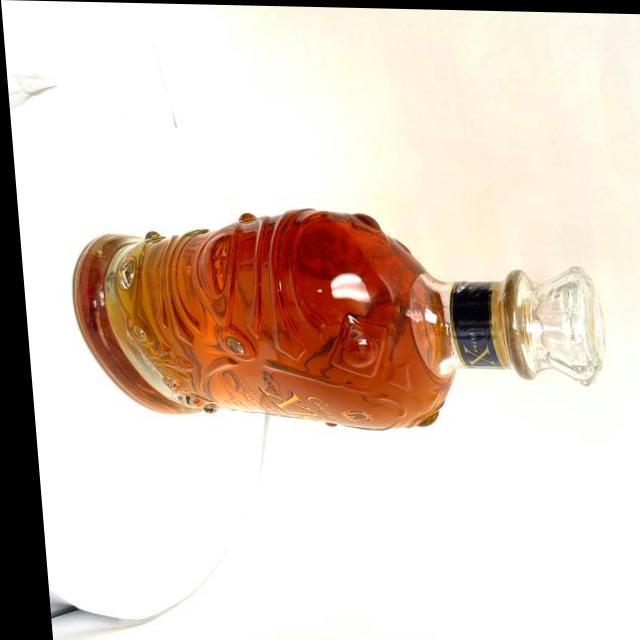CROWN ROYAL EXTRA RARE 750ML: (45, 202, 609, 441)
